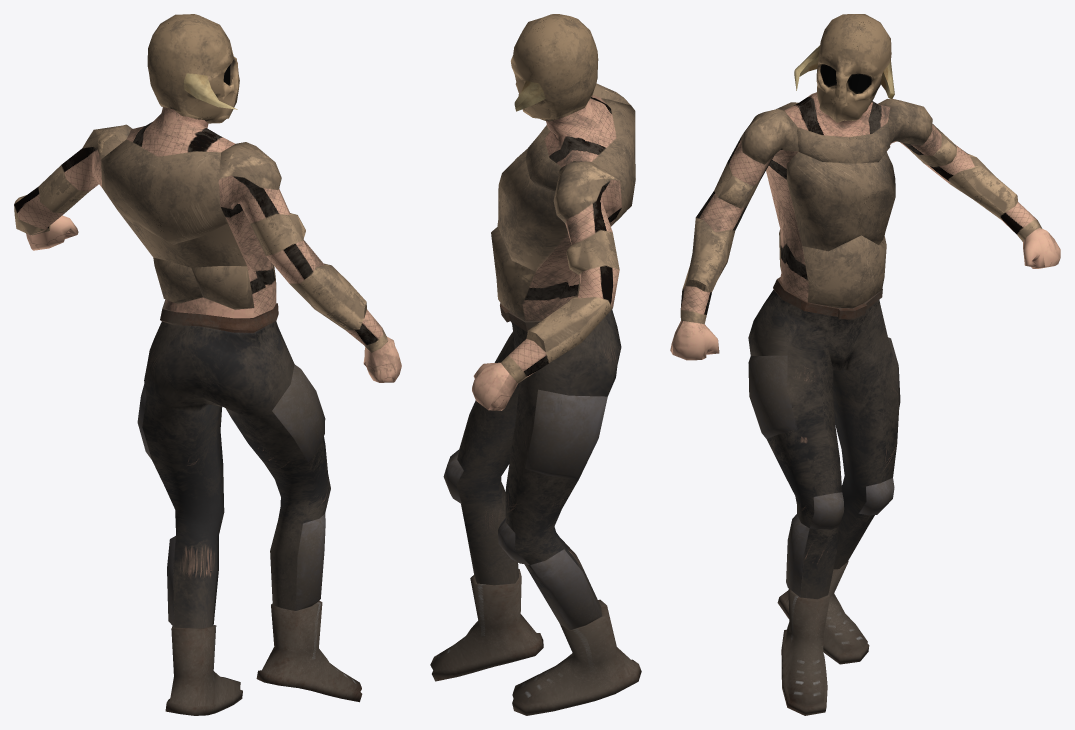
Rendered from Anim_ataque_f1_npc1.0027.obj.
3 renders of one model, left to right at view 1: azimuth 30°, elevation 25°; view 2: azimuth 150°, elevation 25°; view 3: azimuth 270°, elevation 25°, orthographic. The views are drawn at different scales.
Parts seen in each view (by area): view 1: NPC2; view 2: NPC2; view 3: NPC2.
Boxes of the visible parts, x1,y1,x2,y2 form: NPC2: (14, 14, 401, 715); NPC2: (430, 14, 641, 715); NPC2: (670, 14, 1060, 715).
Bounding box in the file's own units: 3.71 × 9.56 × 5.32.
